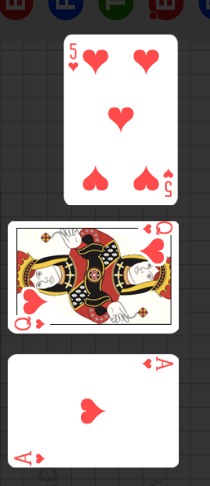5H: (162, 167, 174, 199), (68, 42, 80, 74)
AH: (140, 357, 175, 373)
